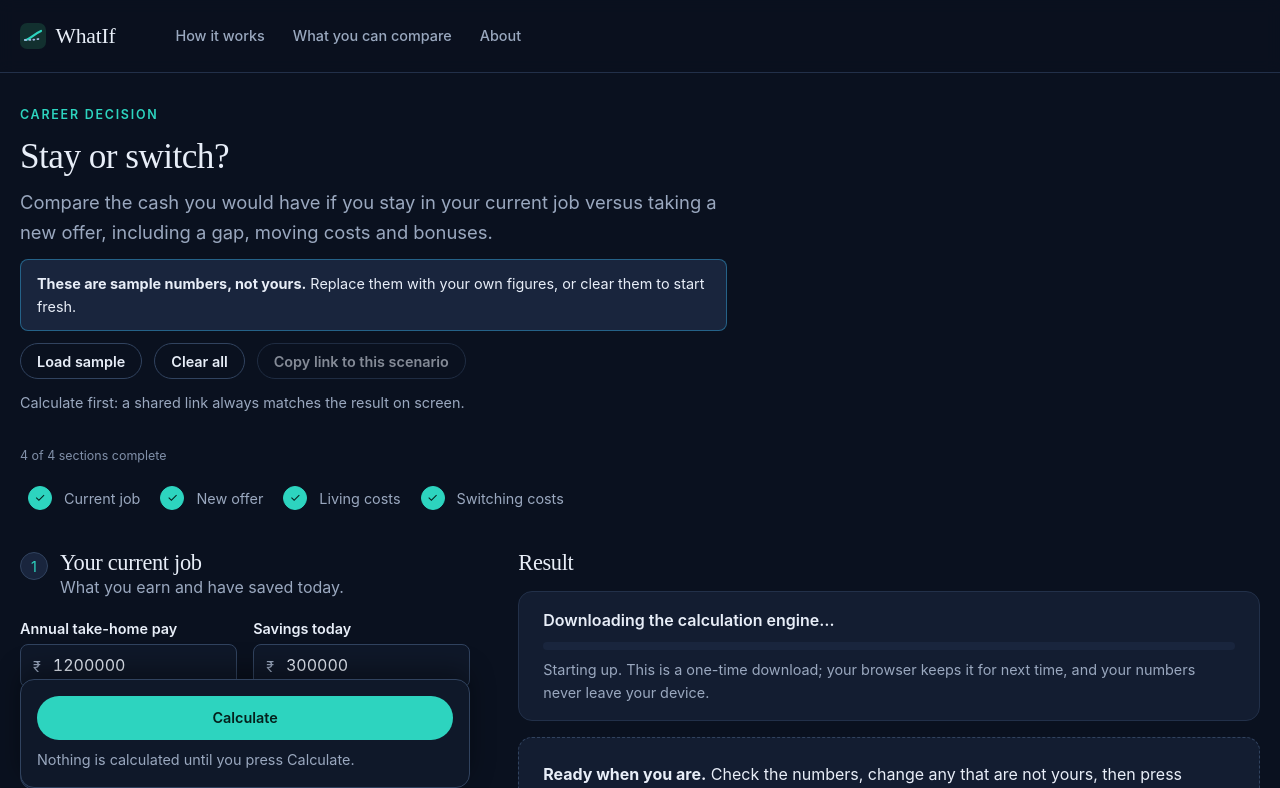
Test: decision workspace › shows API errors instead of failing silently, keeping the form usable
The width and height of the screenshot is (1280, 788).
Expected: the text "These are sample numbers, not yours." is shown, [37, 275, 306, 292]
Click the button "Calculate": point(245, 718) [37, 696, 453, 740]
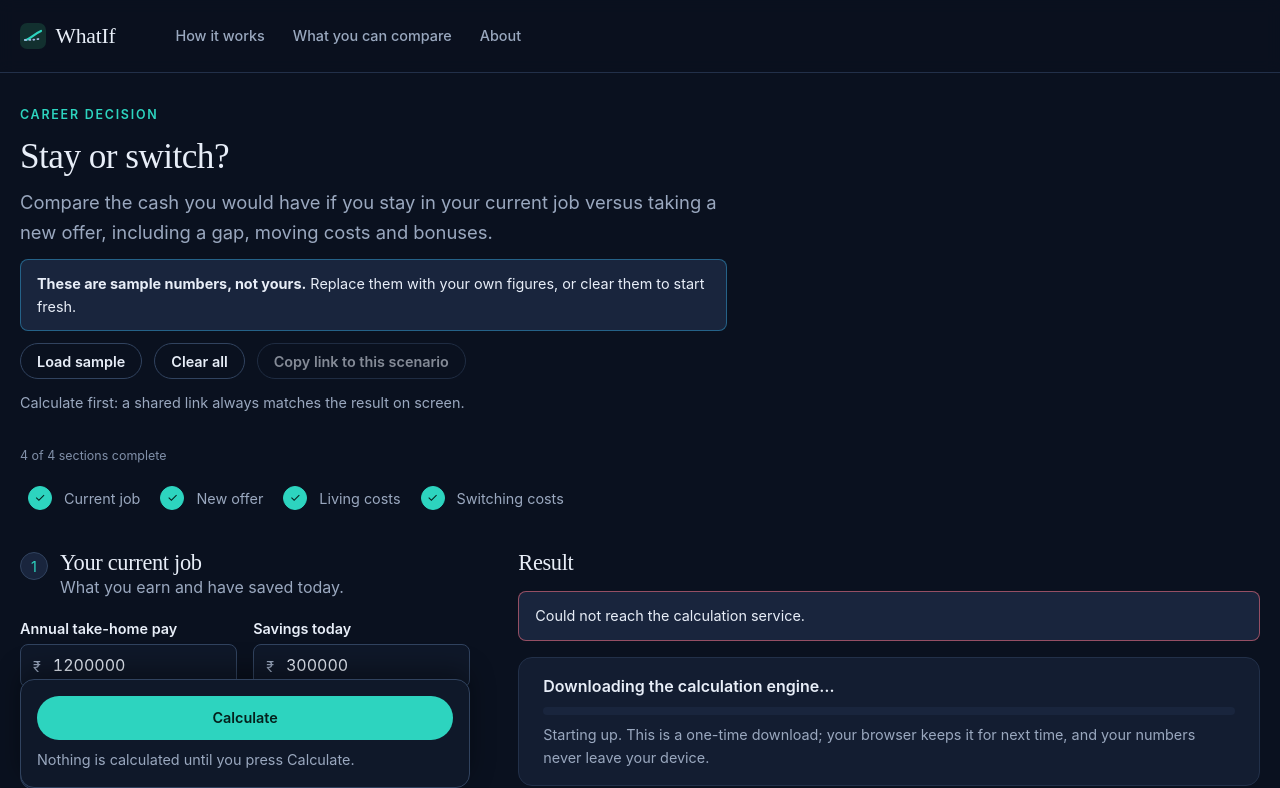
Now the message "Could not reach the calculation service." is shown, box [518, 592, 1260, 640]
